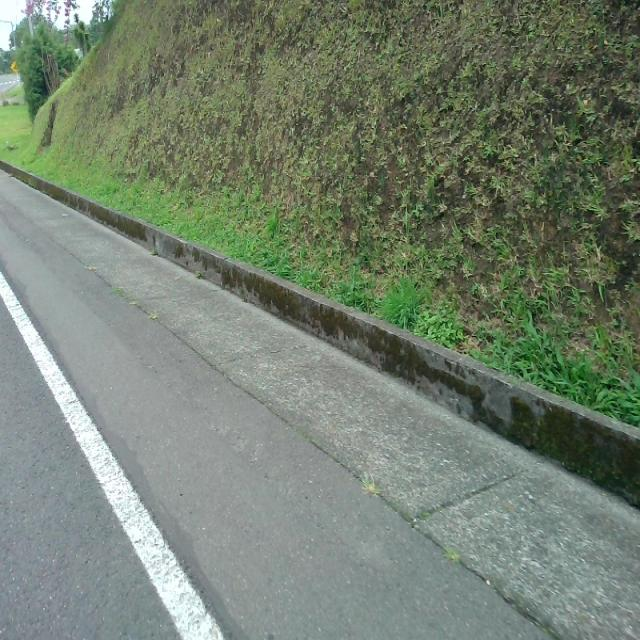DITCH: (1, 161, 639, 638)
